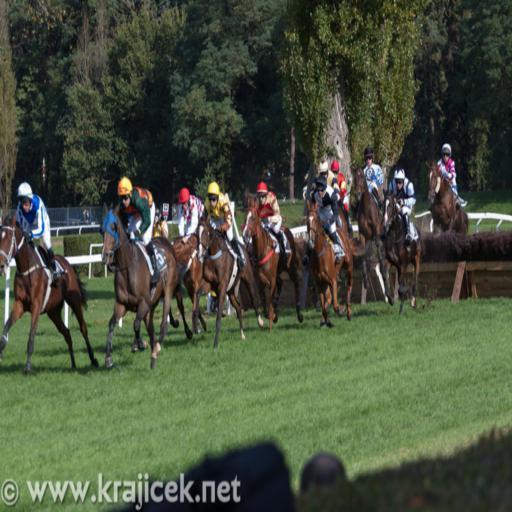horse: (97, 164, 423, 370), (0, 214, 100, 370), (424, 159, 470, 236)
